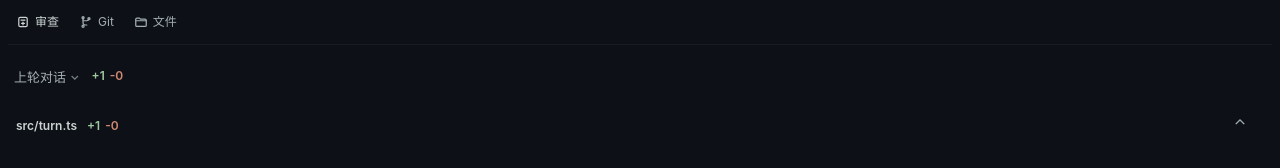
Test: ReviewPanel scoped change sets › renders visible review scopes from their own change sets only
Expected: the text "src/turn.ts" is shown, [16,118,77,132]
Click the button "上轮对话 ⌄" at (47, 76), box [12,63,82,89]
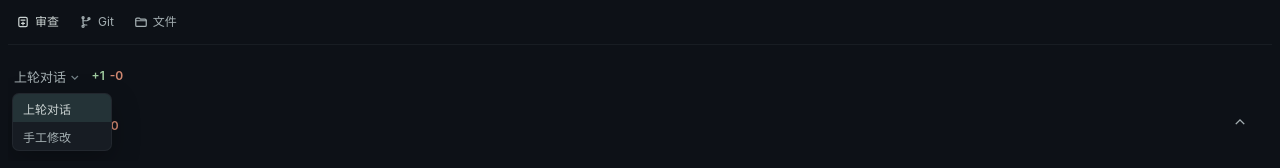
Click the menu item "手工修改" at (62, 136), box [13,122,111,150]
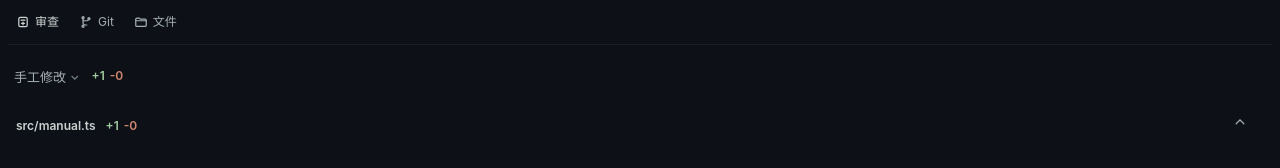
Result: the text "src/manual.ts" is shown at [16,118,96,132]
Result: no buttons "src/turn.ts" are shown
